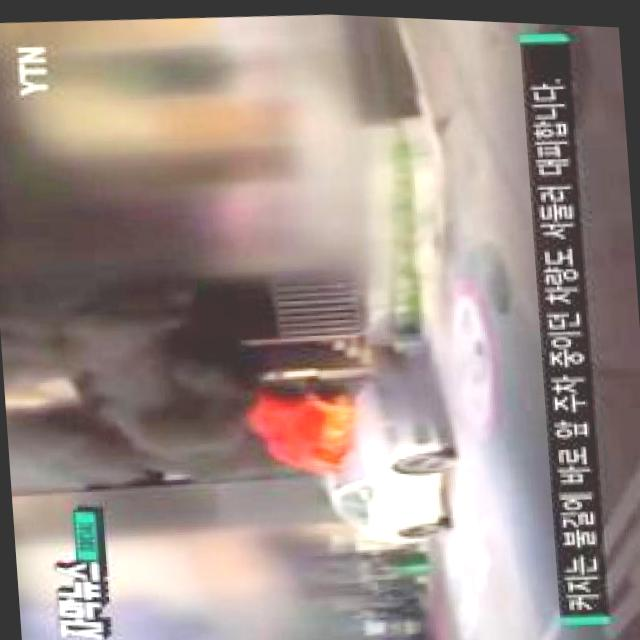helmet: (255, 390, 352, 463)
no_helmet: (0, 266, 252, 509)
